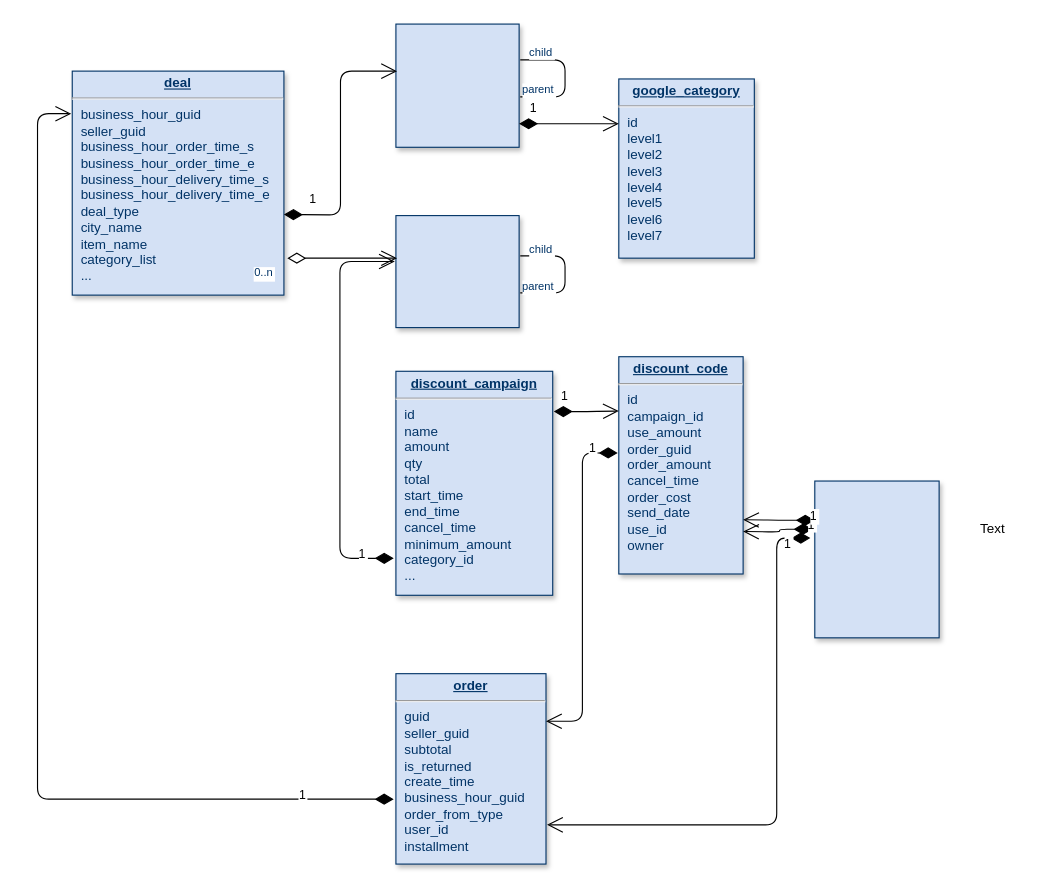
The diagram is 1043 pixels wide and 892 high, and some of its shapes have lost their labels. Here are the shapes that lost their labels. From the top down, the centre of each, then its label:
At pixel 458 86: "deal_type code_id code_name parent_code_id code".
At pixel 458 272: "category id name parent_id".
At pixel 877 560: "member unique_id birthday gender create_time city_name last_login_date".
